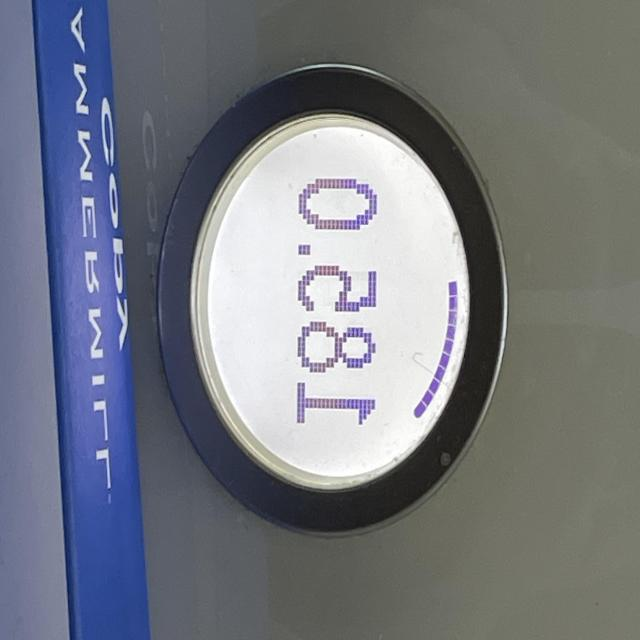ws: (156, 63, 510, 539)
